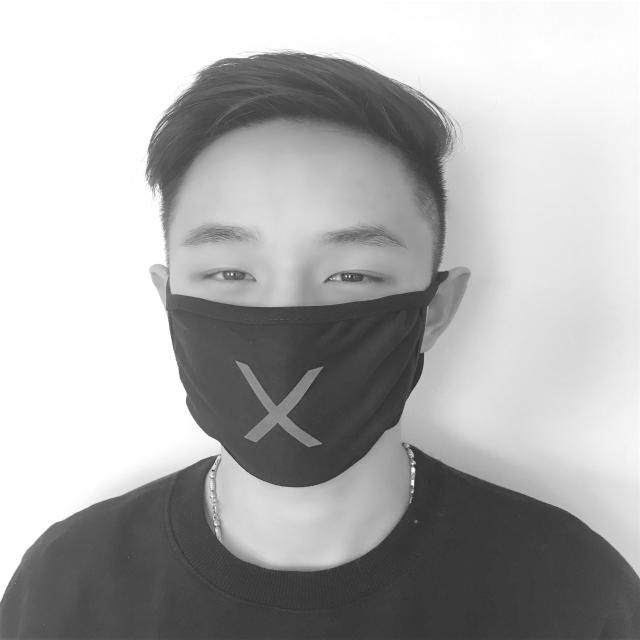fake: (148, 282, 451, 484)
real: (171, 112, 433, 494)
